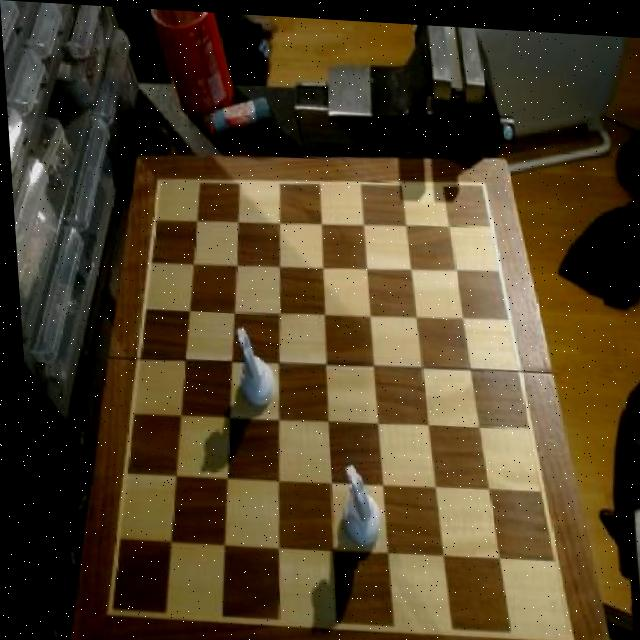white-king: (331, 456, 378, 546), (227, 319, 274, 407)
